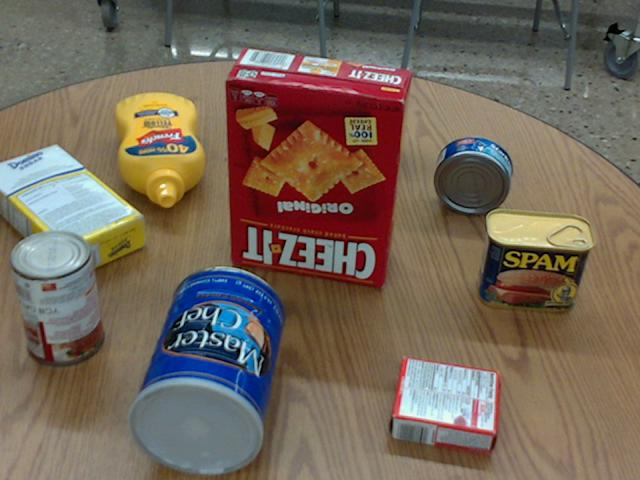cracker_box: (224, 48, 411, 284)
gelatin_box: (390, 356, 499, 453)
large_marker: (239, 102, 296, 155)
master_chef_can: (128, 265, 285, 476)
mug: (323, 65, 408, 155)
mustard_bottle: (114, 93, 204, 206)
potted_meat_can: (476, 209, 594, 311)
sugar_box: (0, 140, 145, 279)
tomato_soup_can: (9, 228, 103, 364)
tuna_fish_can: (432, 136, 511, 214)
